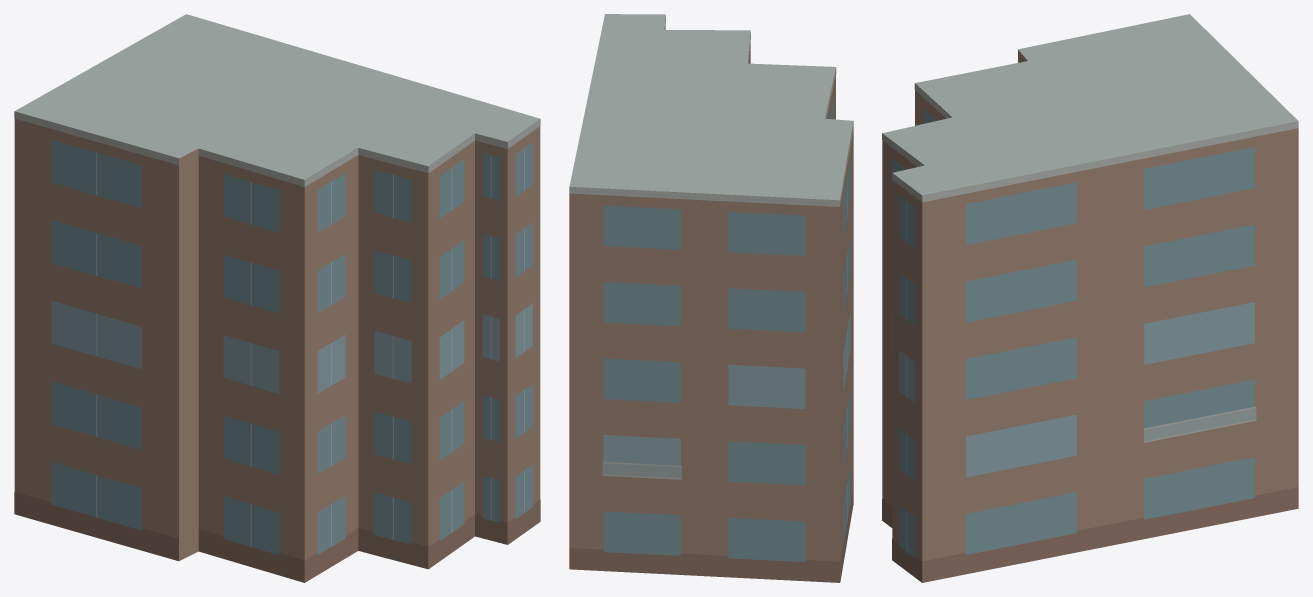
File: survey-upis-32998920.glb
3 views of the same model, side by side, from view 1: azimuth 30°, elevation 25°; view 2: azimuth 150°, elevation 25°; view 3: azimuth 270°, elevation 25° (orthographic). The views are drawn at different scales.
Visible parts, largest first — view 1: survey-upis-32998920.tmp; view 2: survey-upis-32998920.tmp; view 3: survey-upis-32998920.tmp.
Part boxes in pixels (bbox=[...]): survey-upis-32998920.tmp: bbox=[14, 14, 540, 582]; survey-upis-32998920.tmp: bbox=[569, 14, 853, 582]; survey-upis-32998920.tmp: bbox=[882, 14, 1298, 582].
Bounding box in the file's own units: 13.88 × 13.8 × 13.46.
